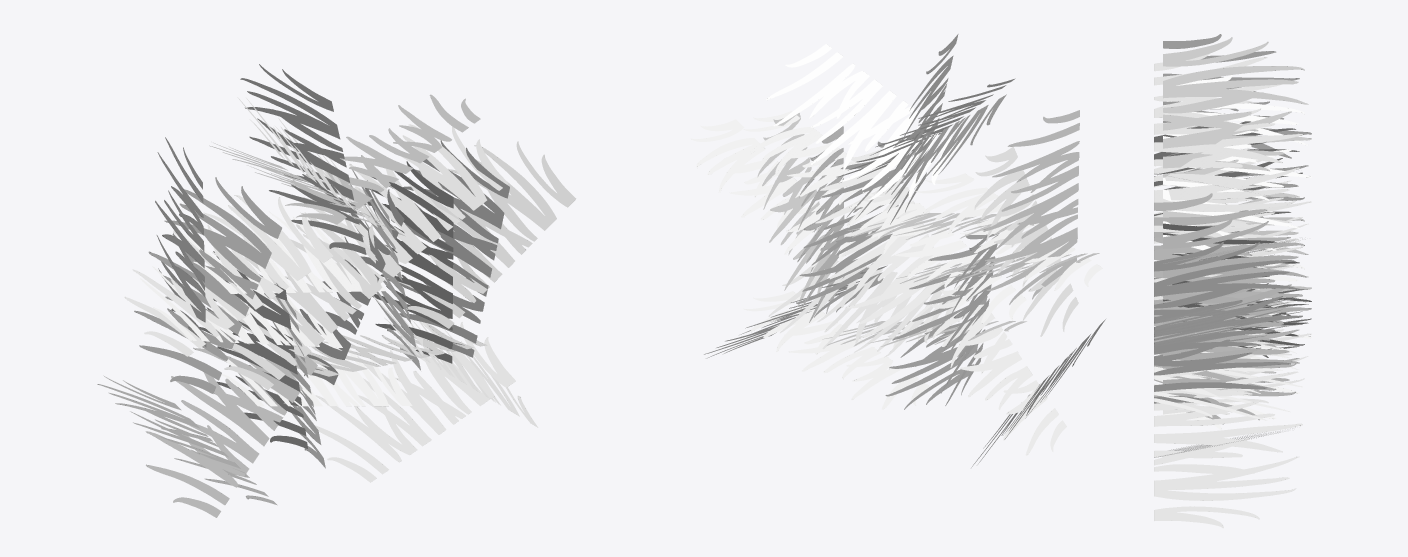
Rendered from Grass_Mid_xrotated.fbx.
The picture shows the model from 3 angles, left to right: view 1: azimuth 30°, elevation 25°; view 2: azimuth 150°, elevation 25°; view 3: azimuth 270°, elevation 25°; orthographic projection. The views are drawn at different scales.
Visible parts, largest first — view 1: tirlted.007; view 2: tirlted.007; view 3: tirlted.007.
Boxes of the visible parts, x1,y1,x2,y2 form: tirlted.007: (97,64,576,517); tirlted.007: (690,34,1105,467); tirlted.007: (1154,34,1311,528).
Bounding box in the file's own units: 220 × 211 × 101.
